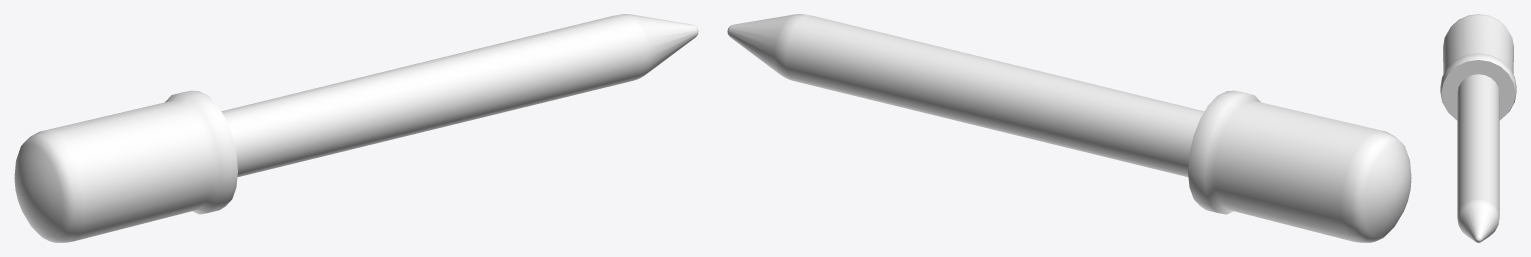
File: Glass_medical_dropper.glb
The picture shows the model from 3 angles, left to right: view 1: azimuth 30°, elevation 25°; view 2: azimuth 150°, elevation 25°; view 3: azimuth 270°, elevation 25°; orthographic projection. The views are drawn at different scales.
Parts seen in each view (by area): view 1: Glass_medical_dropper1; view 2: Glass_medical_dropper1; view 3: Glass_medical_dropper1.
Part boxes in pixels (bbox=[...]): Glass_medical_dropper1: bbox=[14, 14, 698, 242]; Glass_medical_dropper1: bbox=[727, 14, 1411, 242]; Glass_medical_dropper1: bbox=[1440, 14, 1516, 242].
Bounding box in the file's own units: 0.146 × 0.0234 × 0.0234.
Materials: 2 (1 with a texture image).
